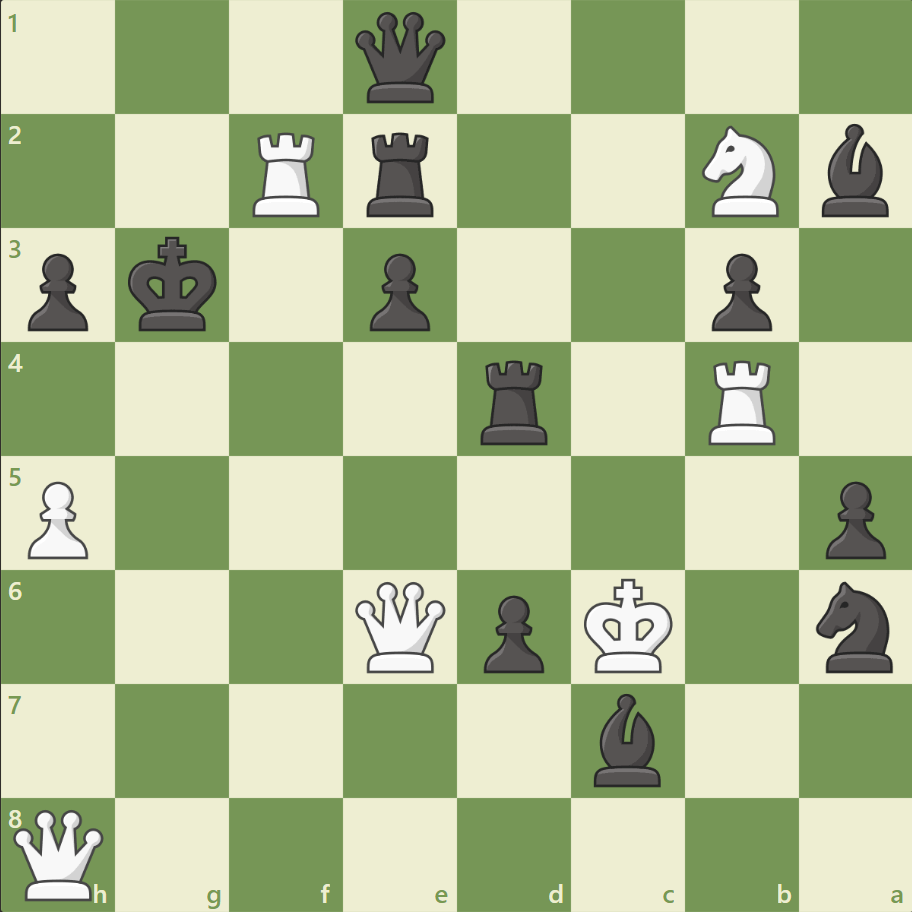K: (579, 571, 679, 679)
N: (692, 121, 789, 223)
P: (20, 473, 95, 564)
Q: (351, 576, 450, 676), (10, 804, 109, 903)
R: (700, 352, 783, 449), (246, 125, 329, 222)
b: (585, 687, 669, 790), (812, 120, 896, 222)
k: (124, 231, 224, 339)
n: (806, 575, 903, 677)
p: (474, 586, 549, 677), (701, 246, 776, 337), (20, 246, 95, 337), (815, 473, 889, 564), (361, 246, 435, 337)
q: (351, 9, 450, 108)
r: (473, 352, 556, 449), (360, 125, 442, 222)
